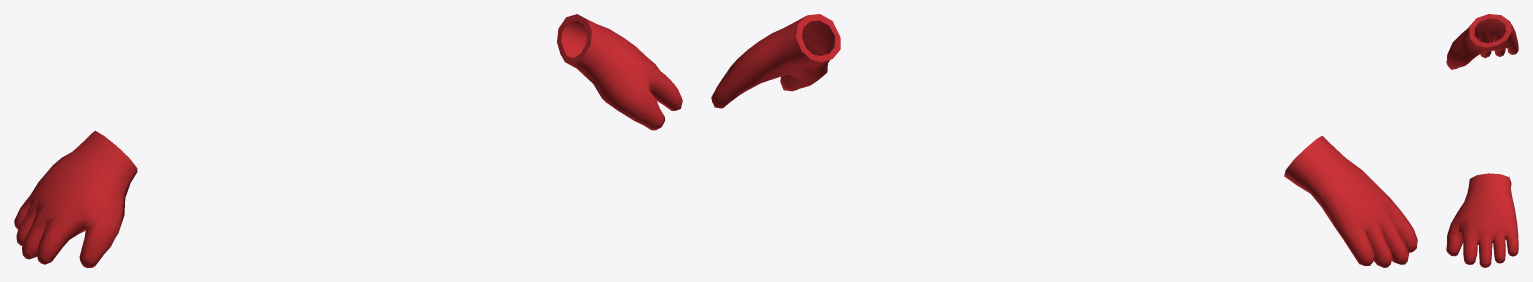
Rendered from Costume_10_03.glb.
The picture shows the model from 3 angles, left to right: view 1: azimuth 30°, elevation 25°; view 2: azimuth 150°, elevation 25°; view 3: azimuth 270°, elevation 25°; orthographic projection. The views are drawn at different scales.
Visible parts, largest first — view 1: Costume_10_03; view 2: Costume_10_03; view 3: Costume_10_03.
Part boxes in pixels (left/top/right/bottom): Costume_10_03: left=14, top=14, right=682, bottom=267; Costume_10_03: left=711, top=14, right=1417, bottom=267; Costume_10_03: left=1446, top=14, right=1518, bottom=267.
Size of the model in its own units: 0.8285 by 0.1244 by 0.1179.
1 material, 1 textured.
